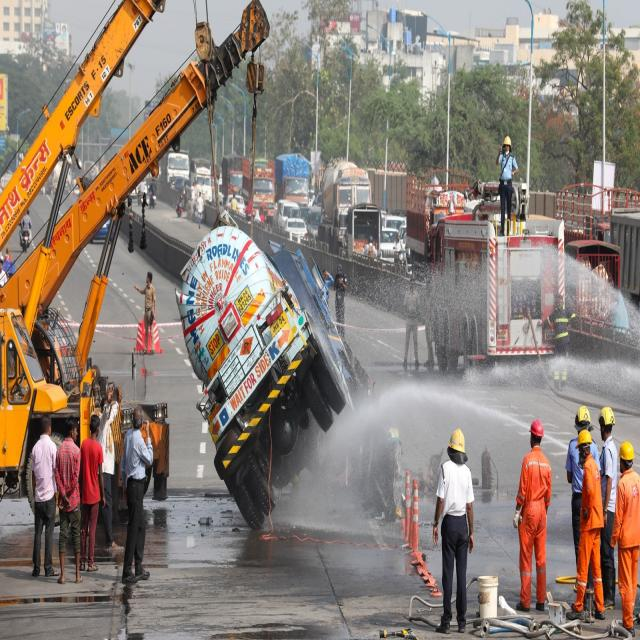accident: (176, 218, 361, 529)
emergency: (429, 182, 565, 371)
truck: (0, 0, 269, 486), (318, 158, 370, 251), (252, 158, 275, 220)
